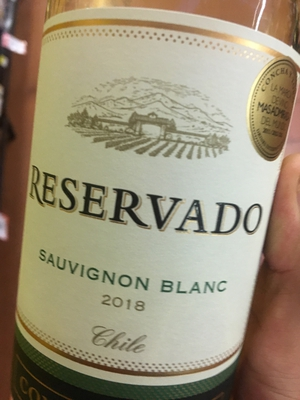reservado sauvignon blanc: (27, 10, 282, 399)
